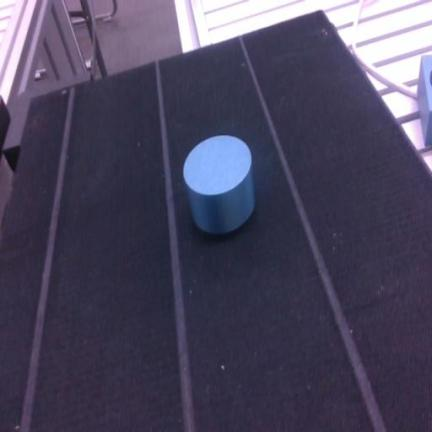cylinder: (184, 136, 254, 233)
